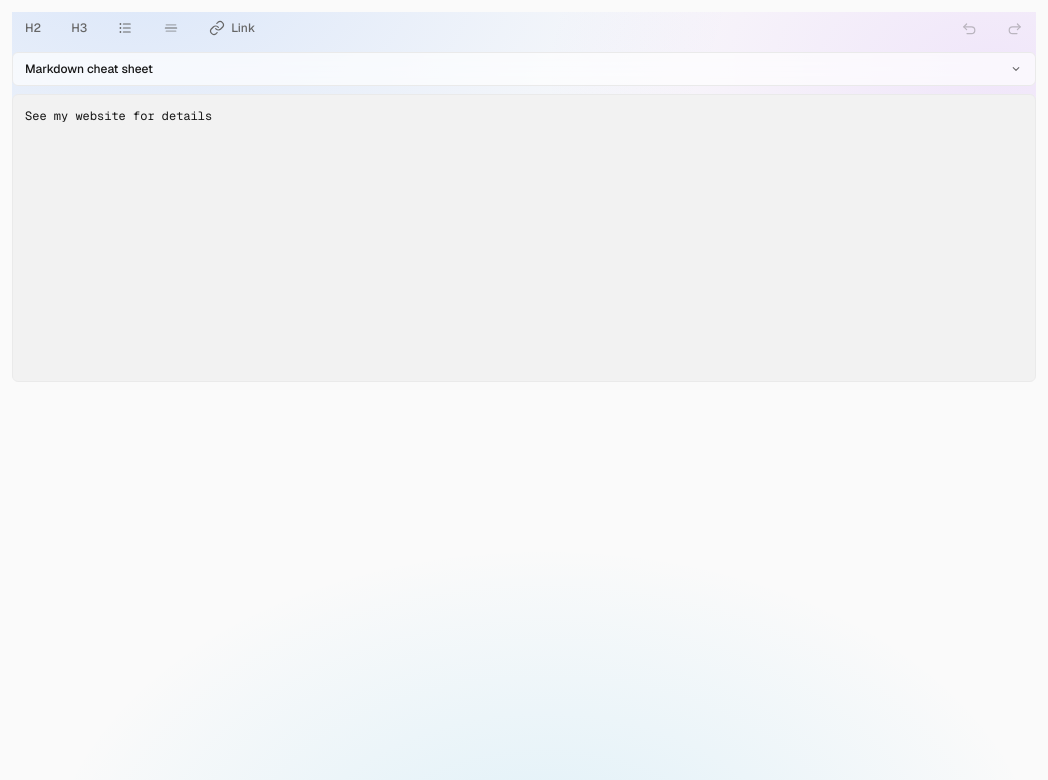
it: MarkdownEditor › makes the selected text the link label, and selects the address to type over
Click the button "Link" at (232, 28), box [196,12,268,44]
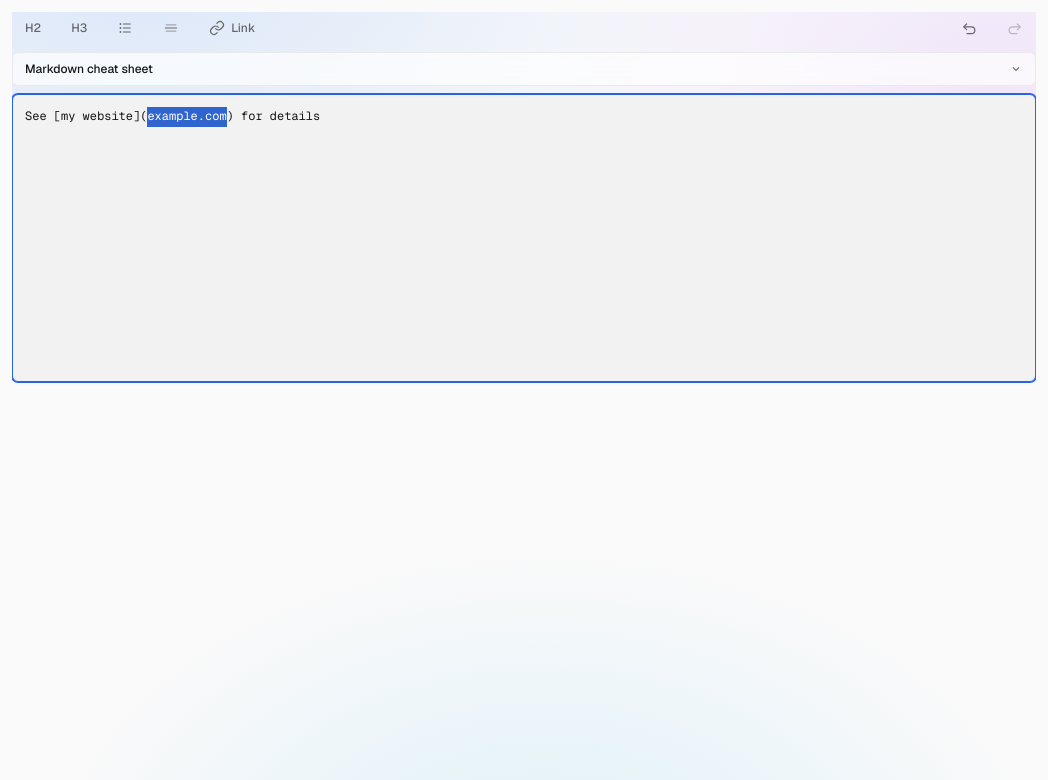
Result: the text box named "resume markdown" holds "See [my website](example.com) for details" at [12,94,1036,382]
